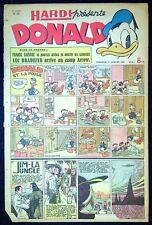paper: (5, 4, 148, 223)
